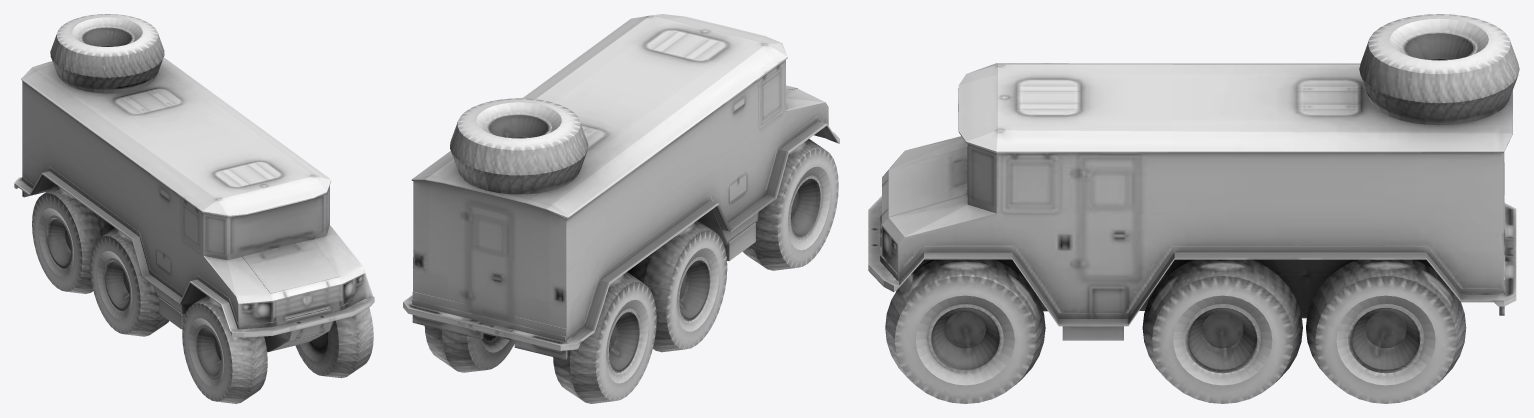
3 renders of one model, left to right at view 1: azimuth 30°, elevation 25°; view 2: azimuth 150°, elevation 25°; view 3: azimuth 270°, elevation 25°, orthographic. The views are drawn at different scales.
Parts seen in each view (by area): view 1: Untitled; view 2: Untitled; view 3: Untitled.
Boxes of the visible parts, <box> form: Untitled: <box>14,14,374,403</box>; Untitled: <box>403,14,839,403</box>; Untitled: <box>868,14,1519,403</box>.
Bounding box in the file's own units: 26.55 × 41.04 × 74.77.
Materials: 1 (1 with a texture image).
